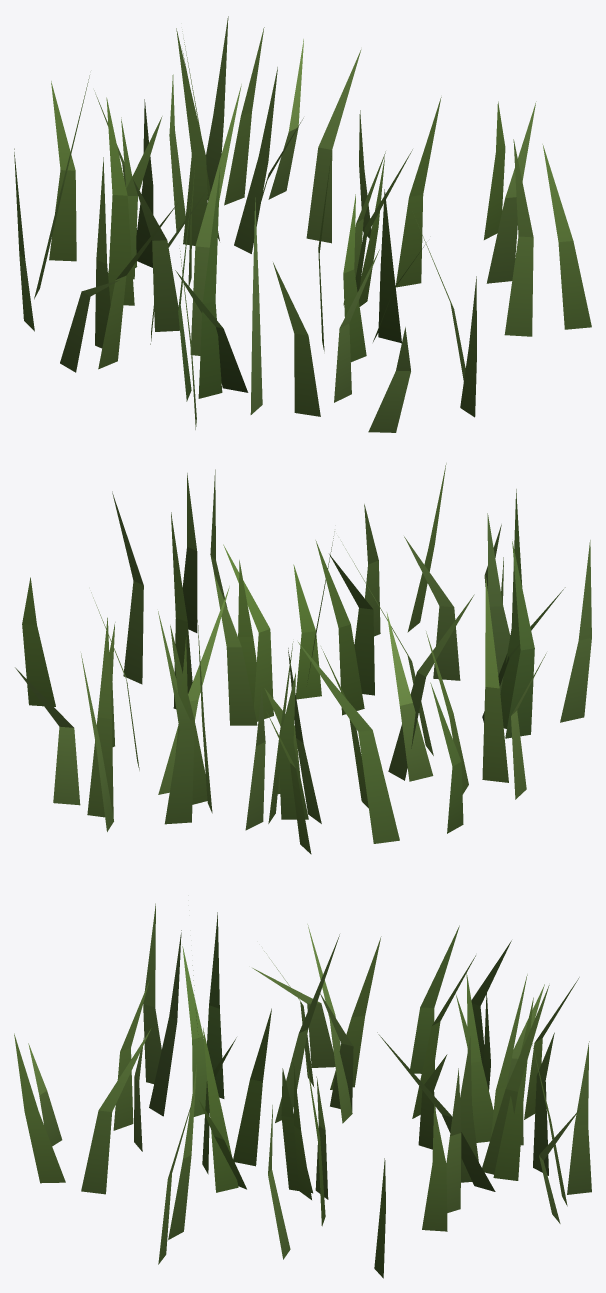
File: grass_meadow_a.glb
3 renders of one model, top to bottom at view 1: azimuth 30°, elevation 25°; view 2: azimuth 150°, elevation 25°; view 3: azimuth 270°, elevation 25°, orthographic. The views are drawn at different scales.
Parts seen in each view (by area): view 1: grass_meadow_a; view 2: grass_meadow_a; view 3: grass_meadow_a.
Part boxes in pixels (bbox=[...]): grass_meadow_a: bbox=[14, 16, 591, 432]; grass_meadow_a: bbox=[15, 463, 591, 854]; grass_meadow_a: bbox=[14, 903, 591, 1278].
Bounding box in the file's own units: 0.5877 × 0.2814 × 0.6697.
